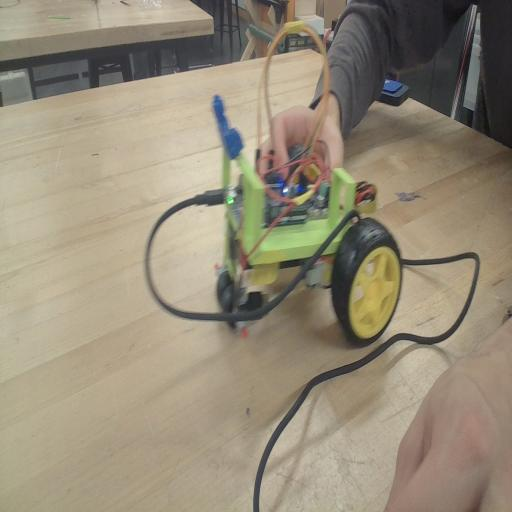blue LEGO minifig: (209, 92, 245, 162)
